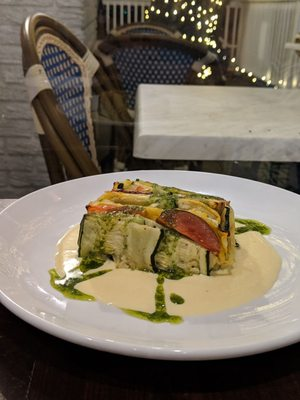curry: (0, 164, 298, 400)
pasta: (19, 13, 102, 184), (30, 90, 102, 184)
